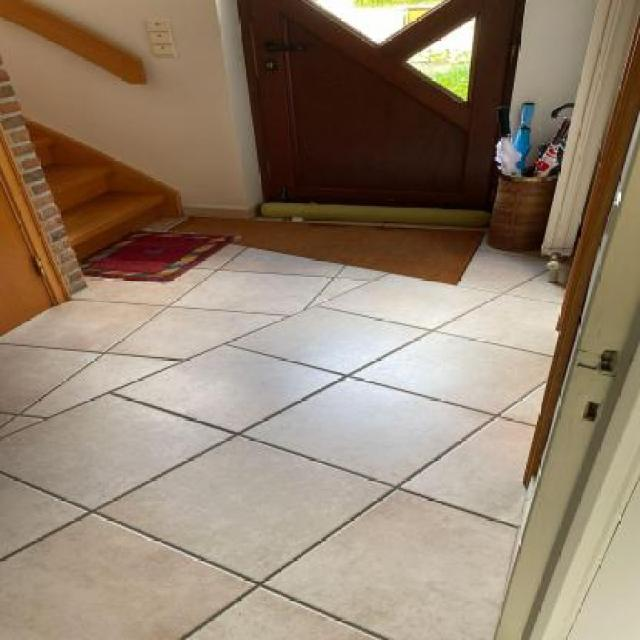Floor: (0, 216, 575, 639), (140, 216, 190, 231)
